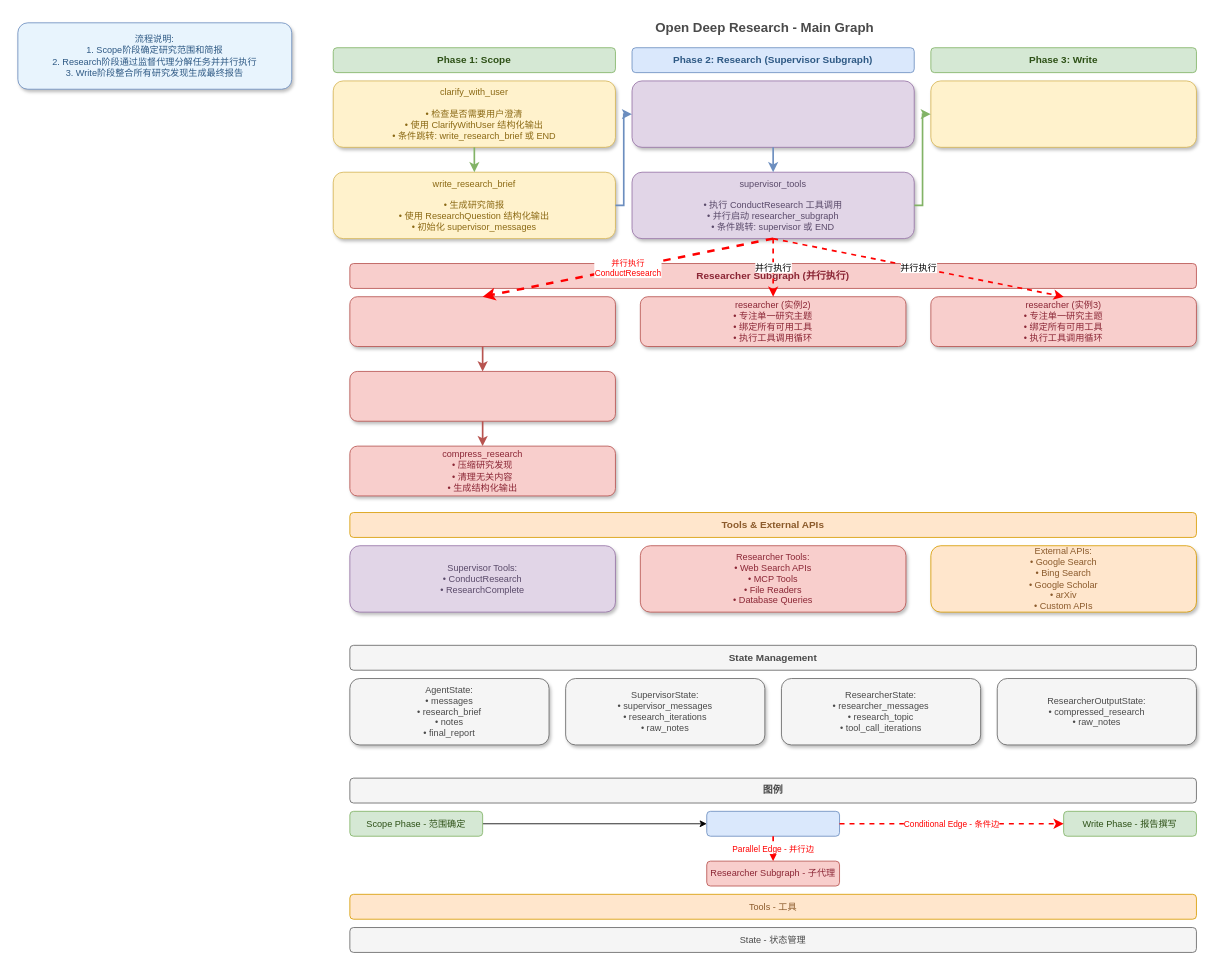
This 1228x967 diagram has some shape labels left out. Each missing label, with the centre of its shape:
"final_report_generation • 生成最终报告 • 使用研究简报 + 所有发现 • 单次LLM调用" belongs at [1064,115].
"Research Phase - 研究执行" belongs at [773,823].
"researcher • 专注单一研究主题 • 绑定所有可用工具 • 执行工具调用循环" belongs at [483,322].
"researcher_tools • 执行工具调用 • 处理工具结果 • 条件跳转: researcher 或 compress_research" belongs at [483,397].
"supervisor • 分析研究简报 • 绑定工具: ConductResearch, ResearchComplete • 决定研究策略" belongs at [773,115].
